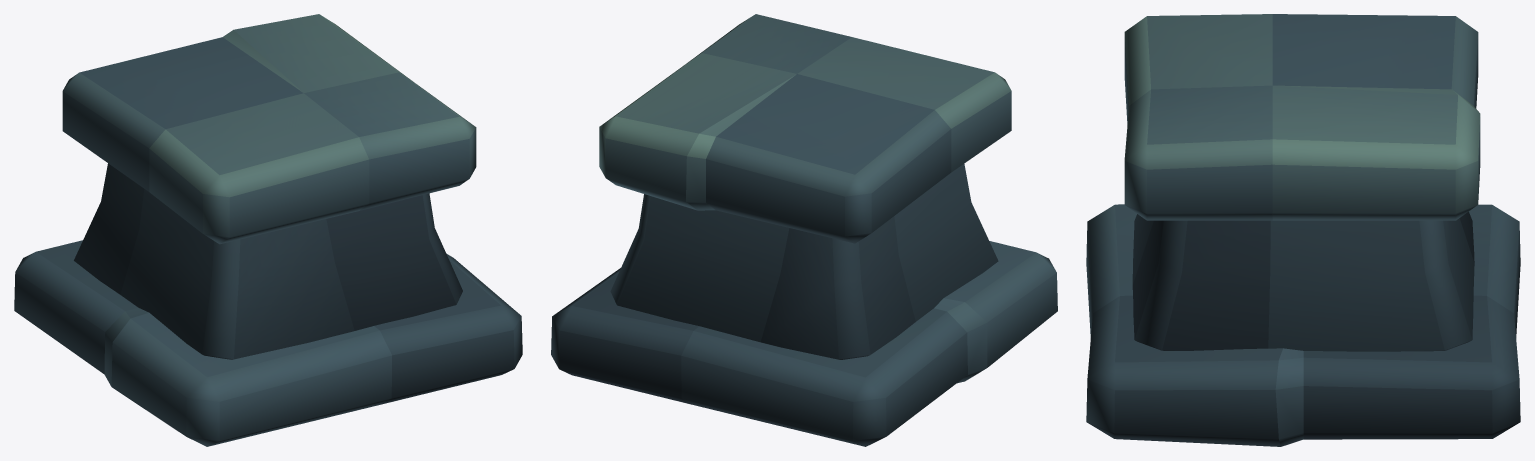
Rendered from pillar_medium_bottom.fbx.
The picture shows the model from 3 angles, left to right: view 1: azimuth 30°, elevation 25°; view 2: azimuth 150°, elevation 25°; view 3: azimuth 270°, elevation 25°; orthographic projection. The views are drawn at different scales.
Parts seen in each view (by area): view 1: pillar_medium_bottom; view 2: pillar_medium_bottom; view 3: pillar_medium_bottom.
Boxes of the visible parts, left/top/right/bottom form: pillar_medium_bottom: left=14, top=14, right=522, bottom=446; pillar_medium_bottom: left=551, top=14, right=1057, bottom=446; pillar_medium_bottom: left=1086, top=14, right=1520, bottom=446.
Size of the model in its own units: 149 by 109 by 148.
